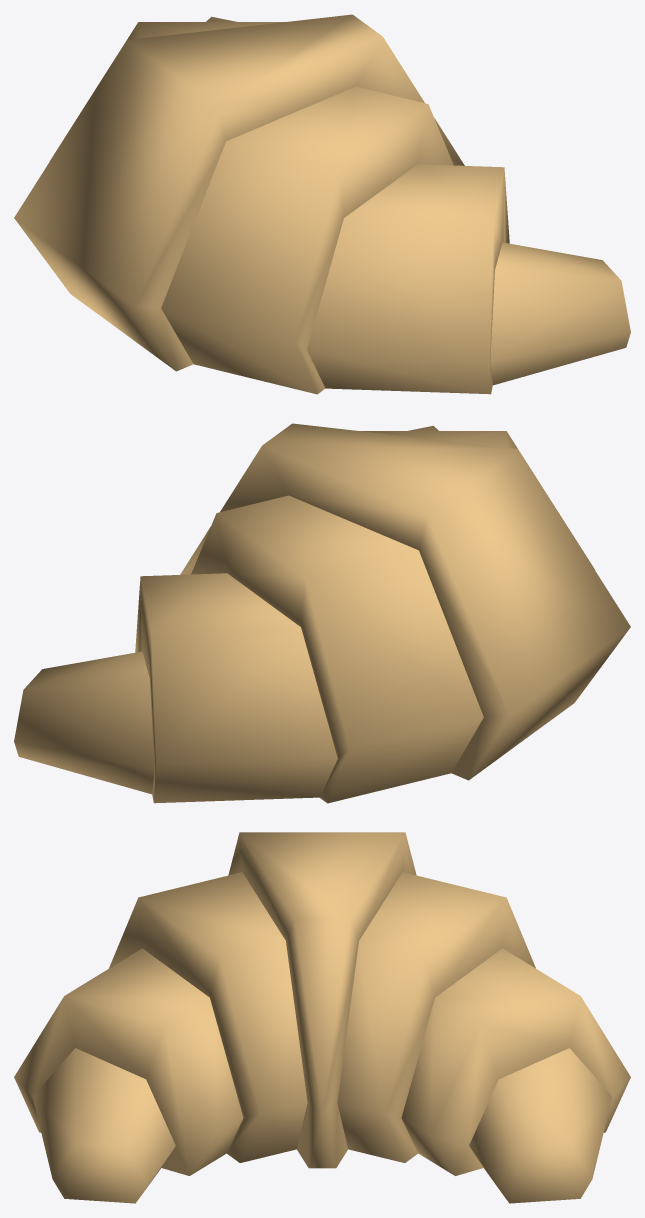
The model's file is croissant.glb.
The picture shows the model from 3 angles, top to bottom: view 1: azimuth 30°, elevation 25°; view 2: azimuth 150°, elevation 25°; view 3: azimuth 270°, elevation 25°; orthographic projection. The views are drawn at different scales.
Visible parts, largest first — view 1: croissant; view 2: croissant; view 3: croissant.
Boxes of the visible parts, left/top/right/bottom form: croissant: left=14, top=14, right=630, bottom=394; croissant: left=14, top=423, right=630, bottom=803; croissant: left=14, top=832, right=630, bottom=1203.
Bounding box in the file's own units: 0.3461 × 0.1936 × 0.4777.
